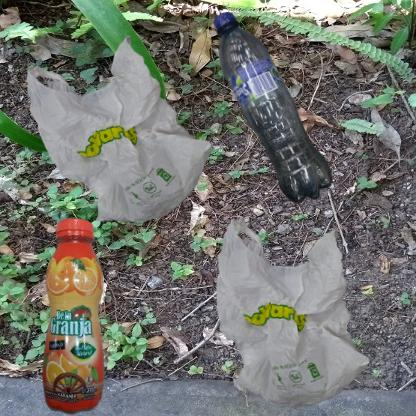bolsa: (10, 10, 262, 287), (213, 213, 372, 412)
botella: (10, 213, 164, 416), (213, 10, 332, 206)
